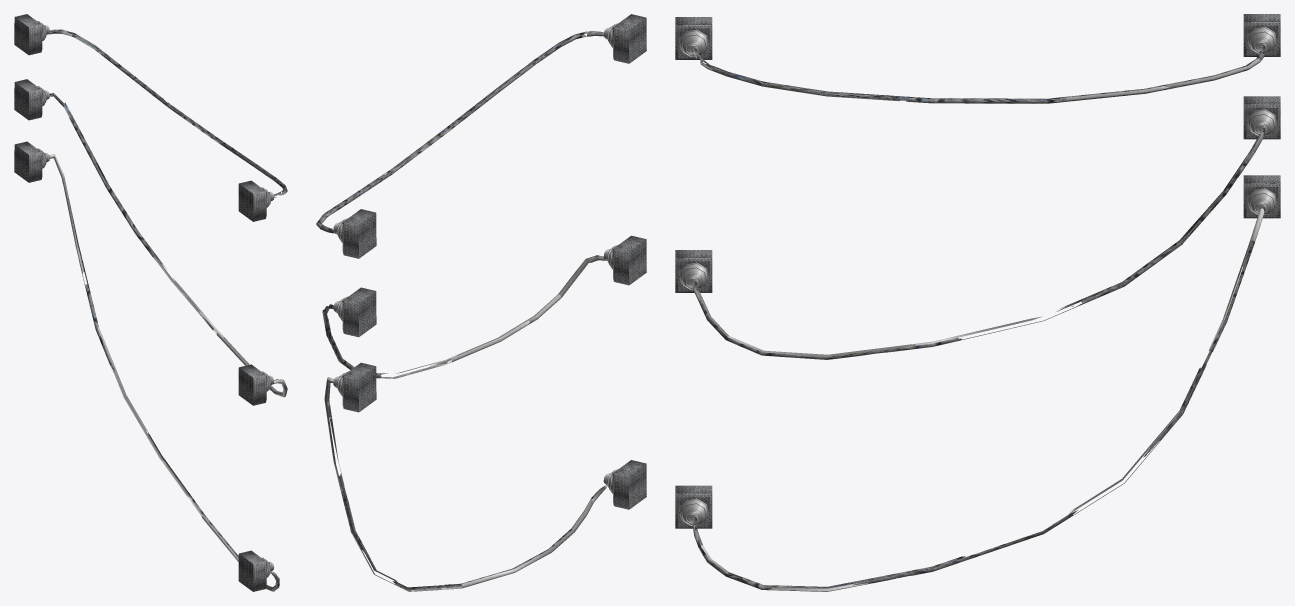
Rendered from Wall_StonePlugs01.FBX.
3 renders of one model, left to right at view 1: azimuth 30°, elevation 25°; view 2: azimuth 150°, elevation 25°; view 3: azimuth 270°, elevation 25°, orthographic. The views are drawn at different scales.
Visible parts, largest first — view 1: Wall_Stone_Plugs01; view 2: Wall_Stone_Plugs01; view 3: Wall_Stone_Plugs01.
Part boxes in pixels (<box>): Wall_Stone_Plugs01: <box>14,14,287,591</box>; Wall_Stone_Plugs01: <box>316,14,646,591</box>; Wall_Stone_Plugs01: <box>675,14,1280,591</box>.
Size of the model in its own units: 43.86 by 274 by 274.
